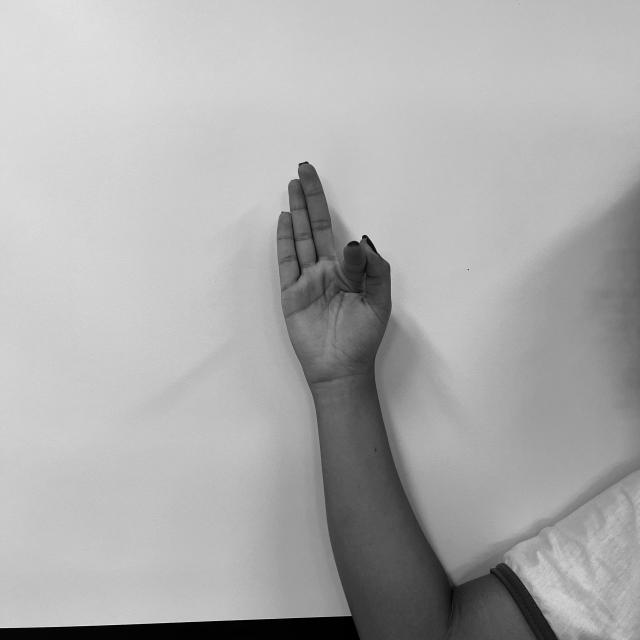Letra F: (274, 158, 396, 385)
